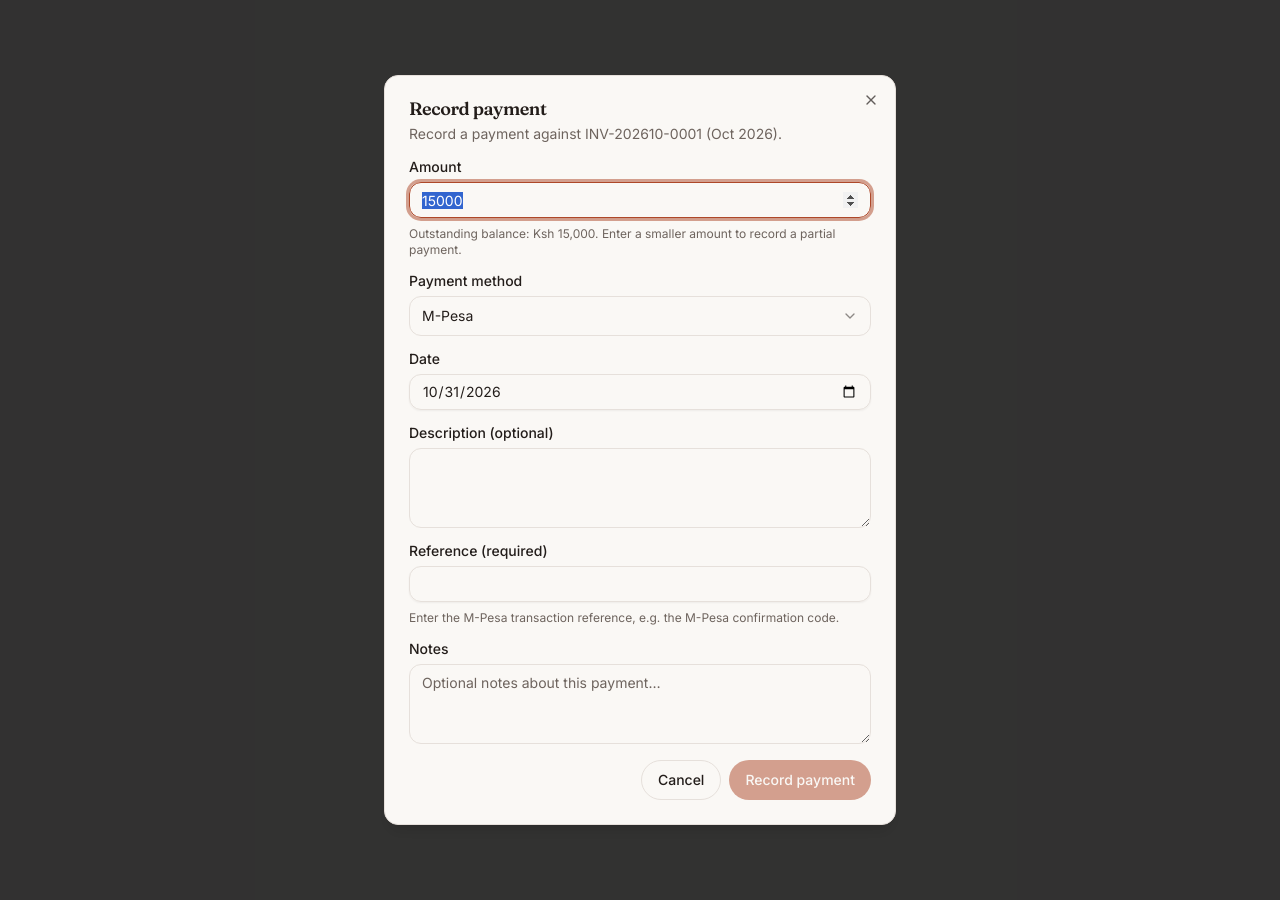
Scenario: RecordPaymentDialog › shows the reference hint for M-Pesa and hides it for Cash
Expected: the text "transaction reference" is shown, [507,610,839,625]
Click the dropdown: (448, 316) [409,296,871,336]
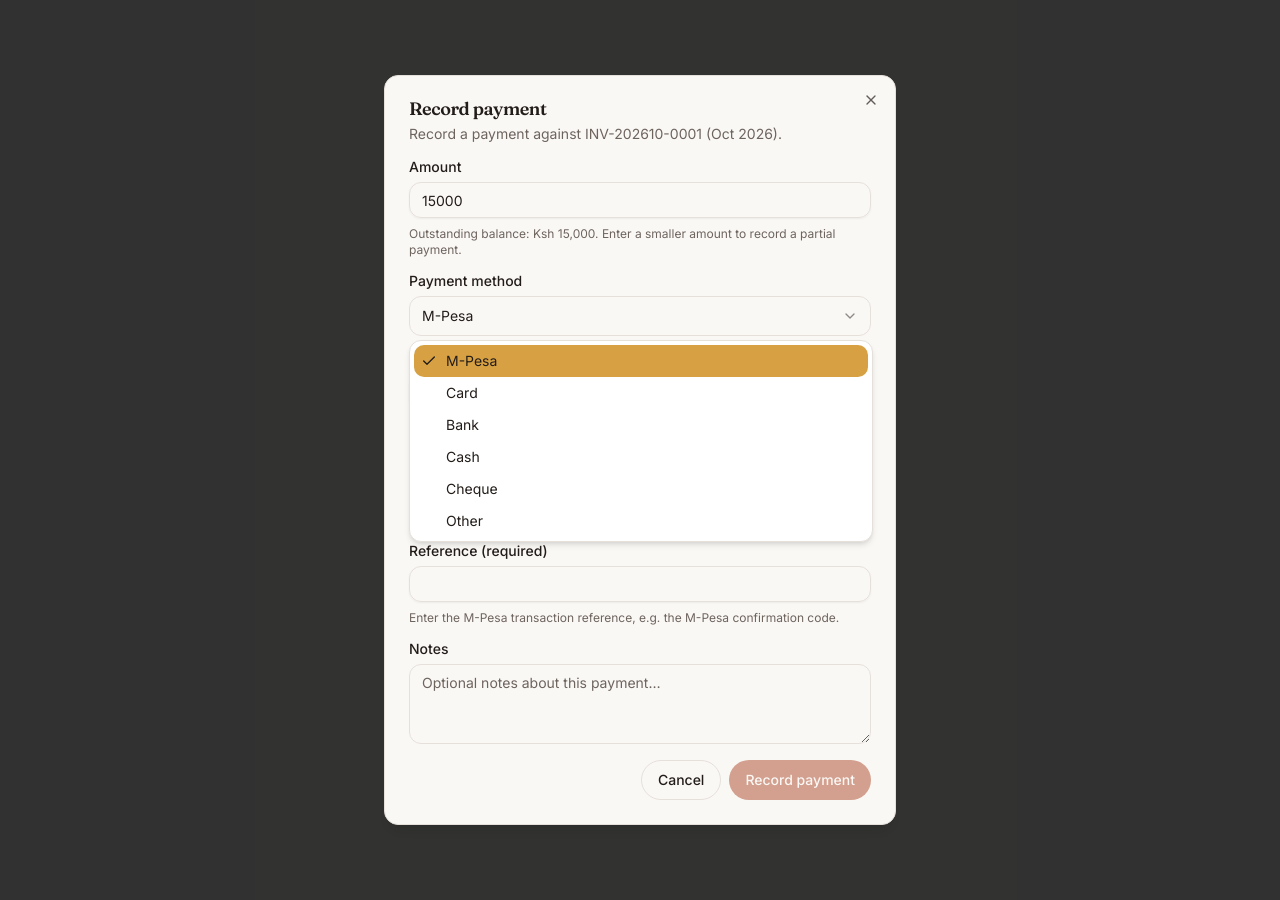
Click the option "Cash": (463, 456) [446,448,480,465]
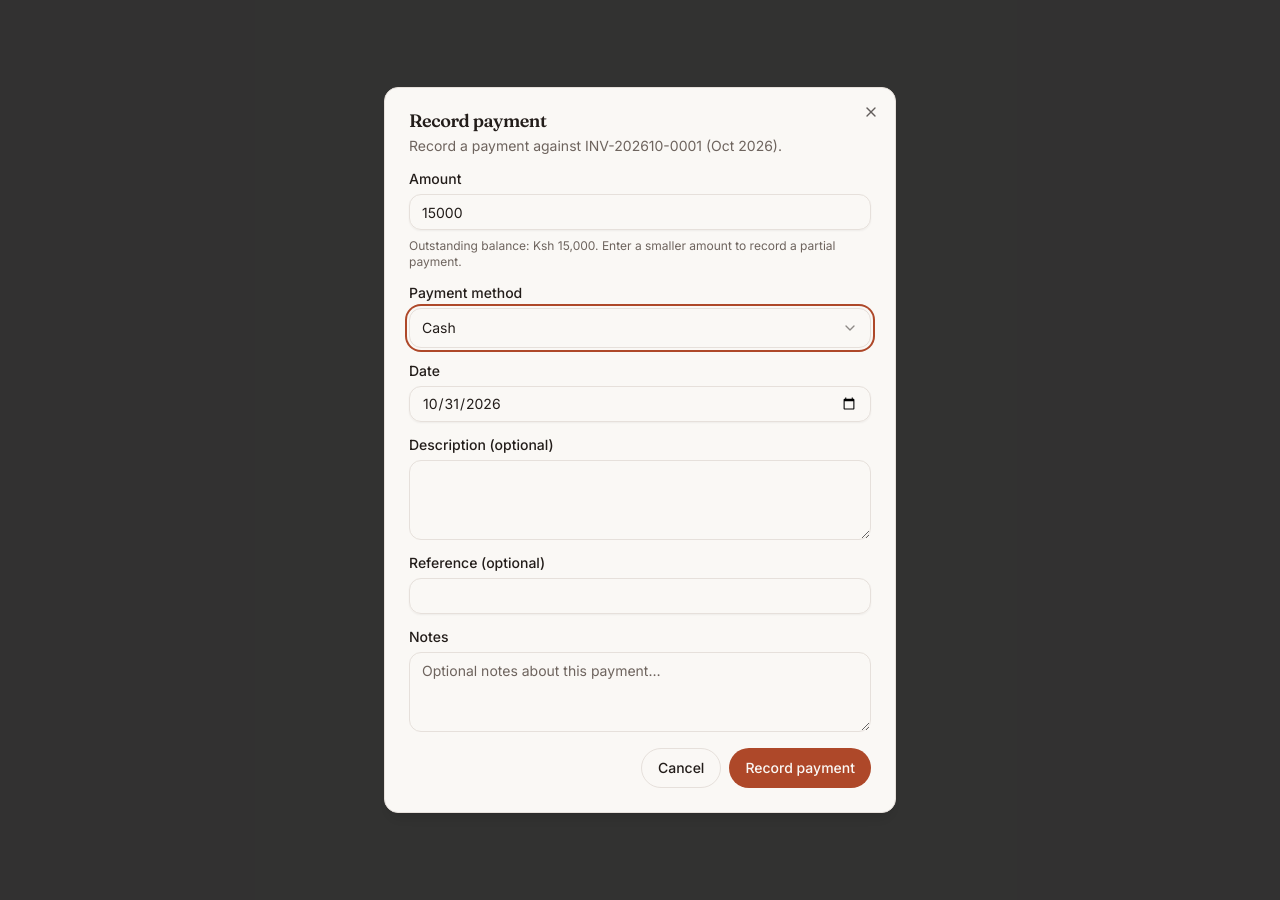
Now the text "transaction reference" is gone
